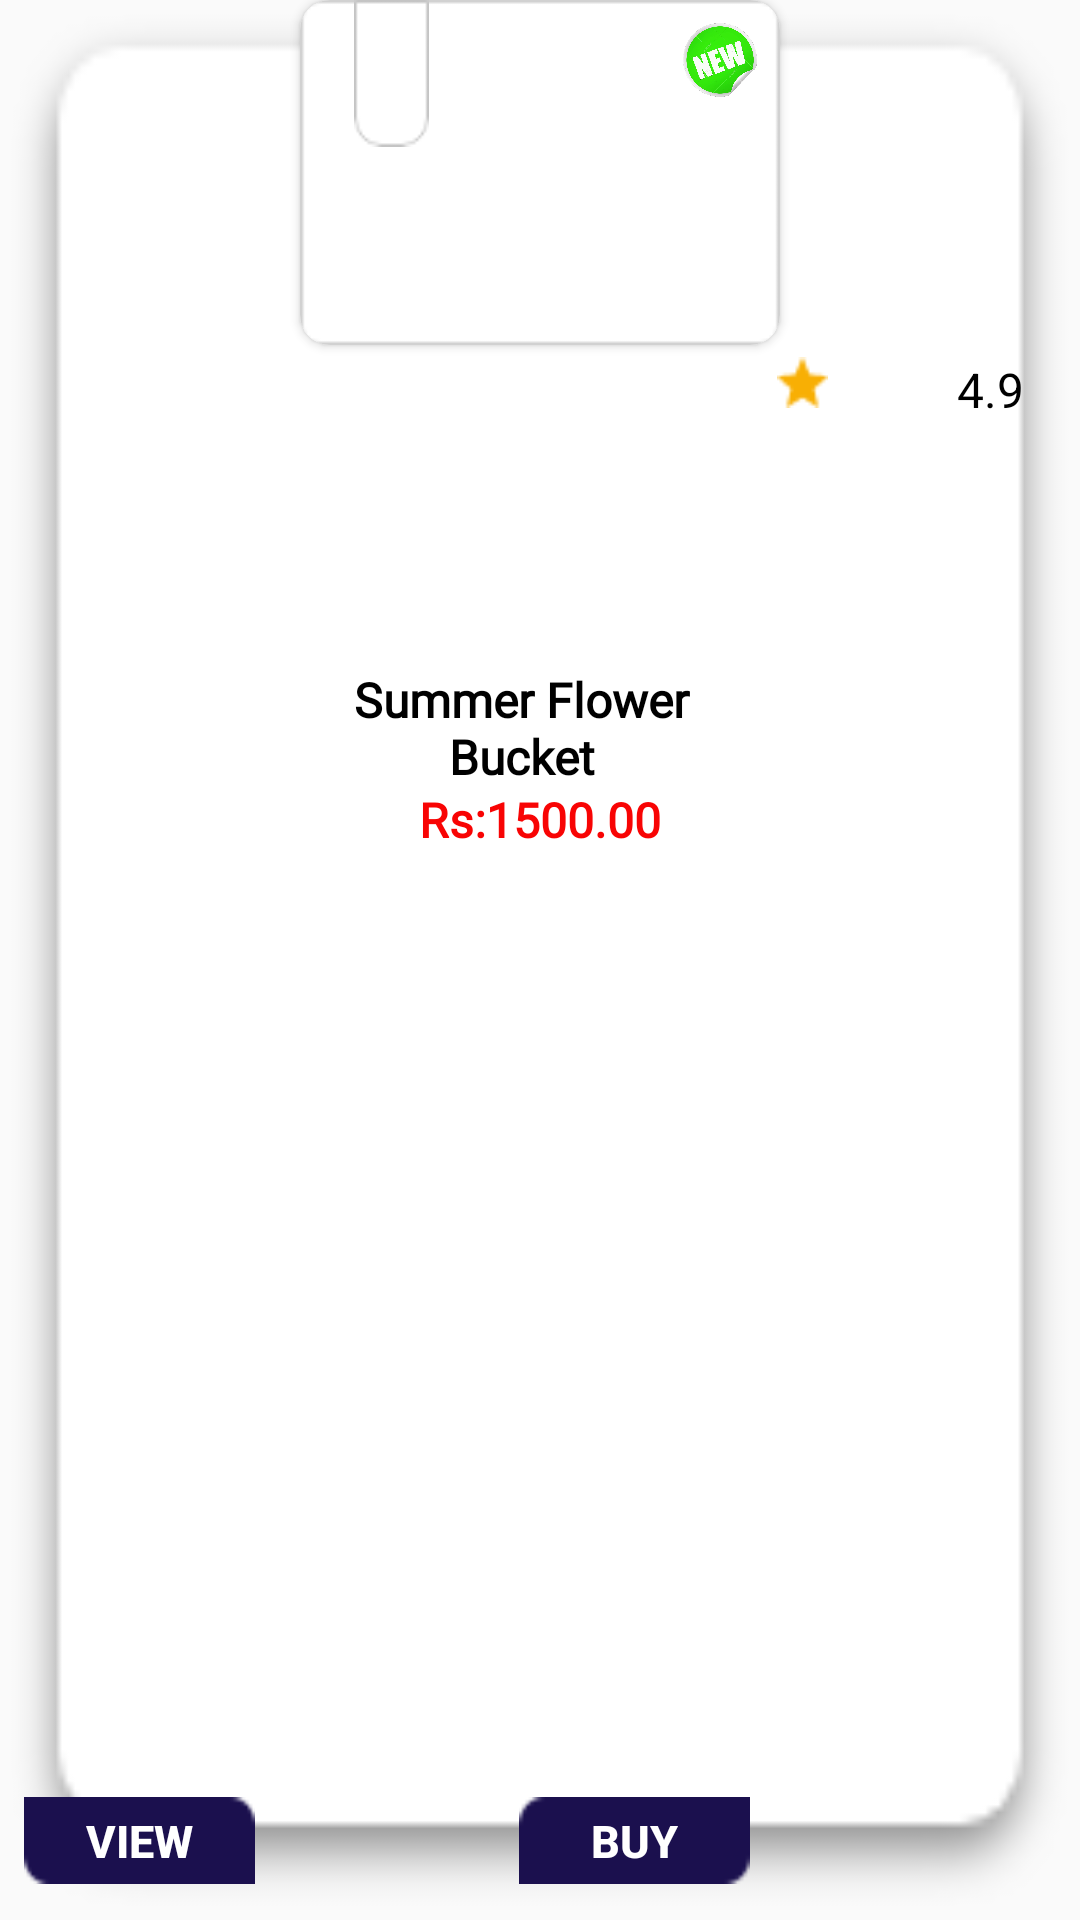

Point at icon controls on the screen. Image size 1080 × 1920, points as (x,y).
star: (802,382)
